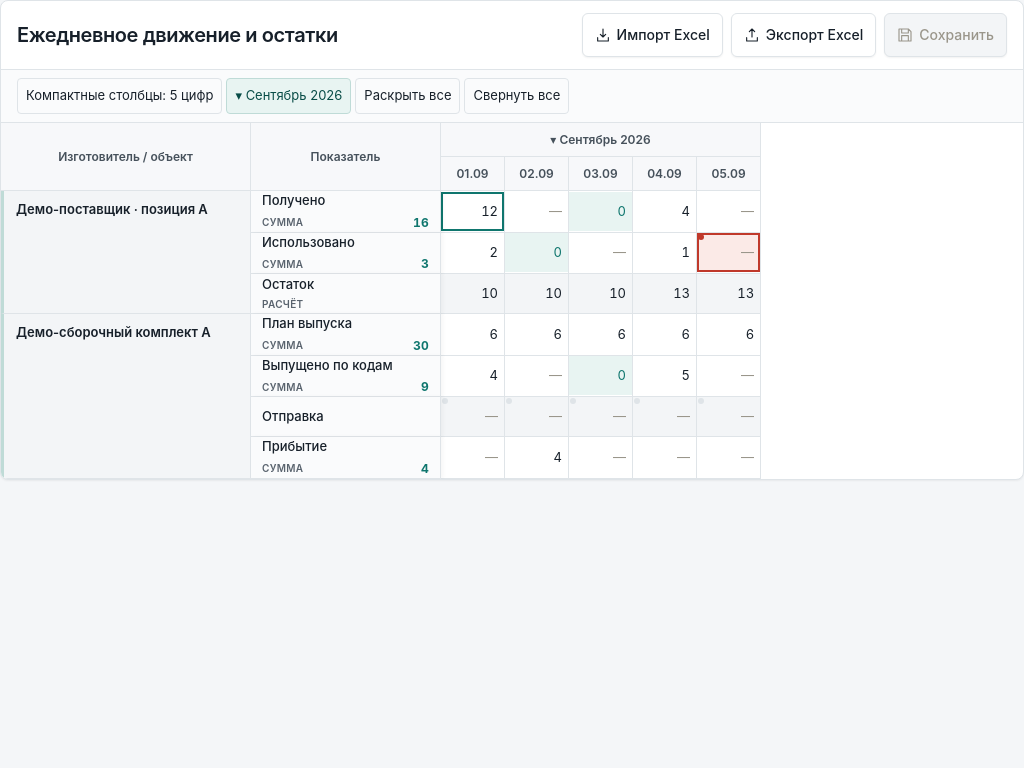
Test case: Excel actions › previews and confirms import, then performs export
Click the button "Импорт Excel" at {"x": 652, "y": 35}, box left=582, top=13, right=723, bottom=57
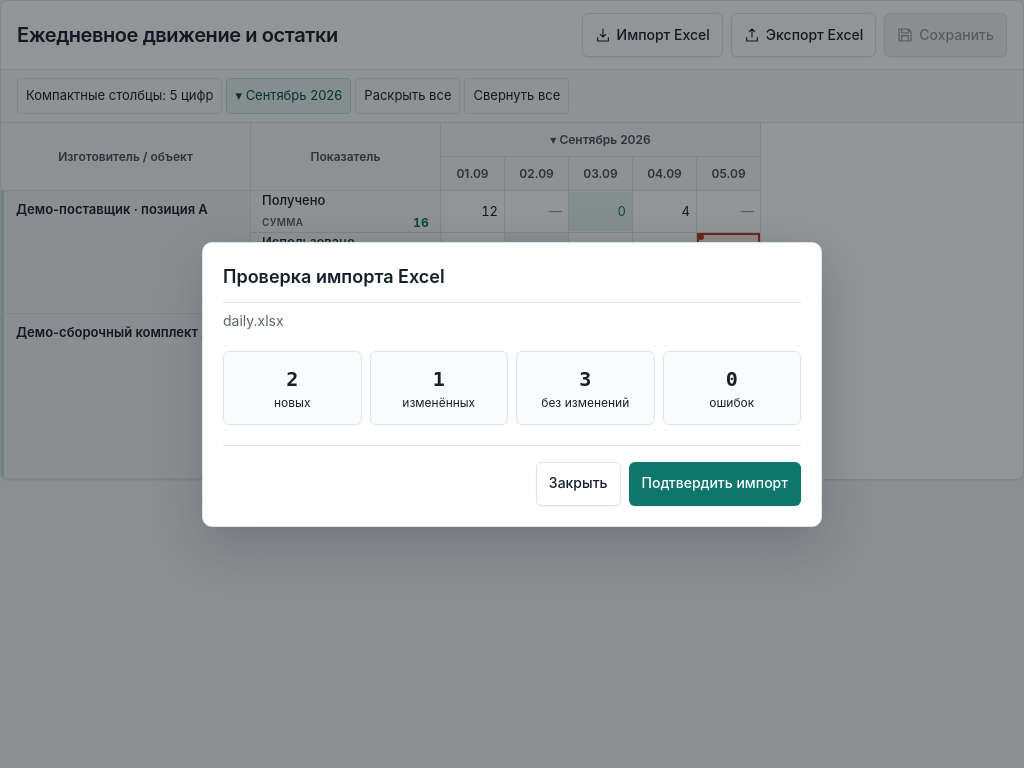
Now the dialog "Проверка импорта Excel" is shown, box left=202, top=242, right=822, bottom=526
Now the text "daily.xlsx" is shown, box left=223, top=312, right=284, bottom=328
Now the text "2" is shown, box left=286, top=366, right=298, bottom=390
Click the button "Подтвердить импорт" at {"x": 715, "y": 484}, box left=628, top=462, right=801, bottom=506
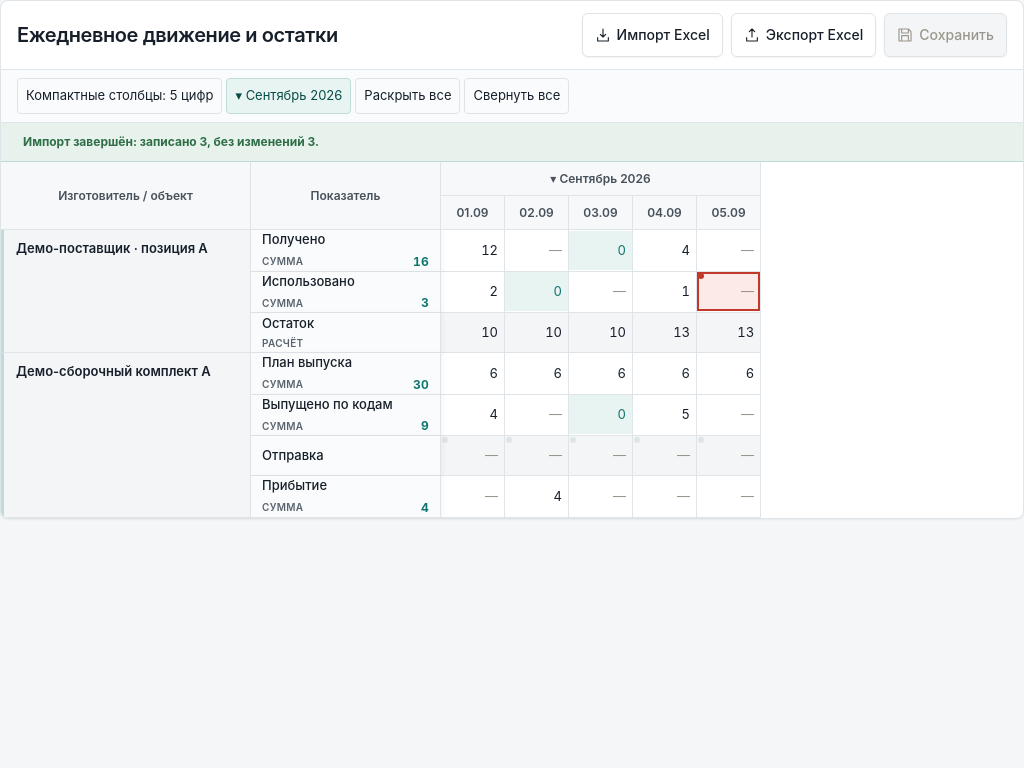
Now the text "Импорт завершён: записано 3, без изменений 3." is shown, box left=1, top=123, right=1023, bottom=162
Click the button "Экспорт Excel" at {"x": 804, "y": 35}, box left=731, top=13, right=876, bottom=57
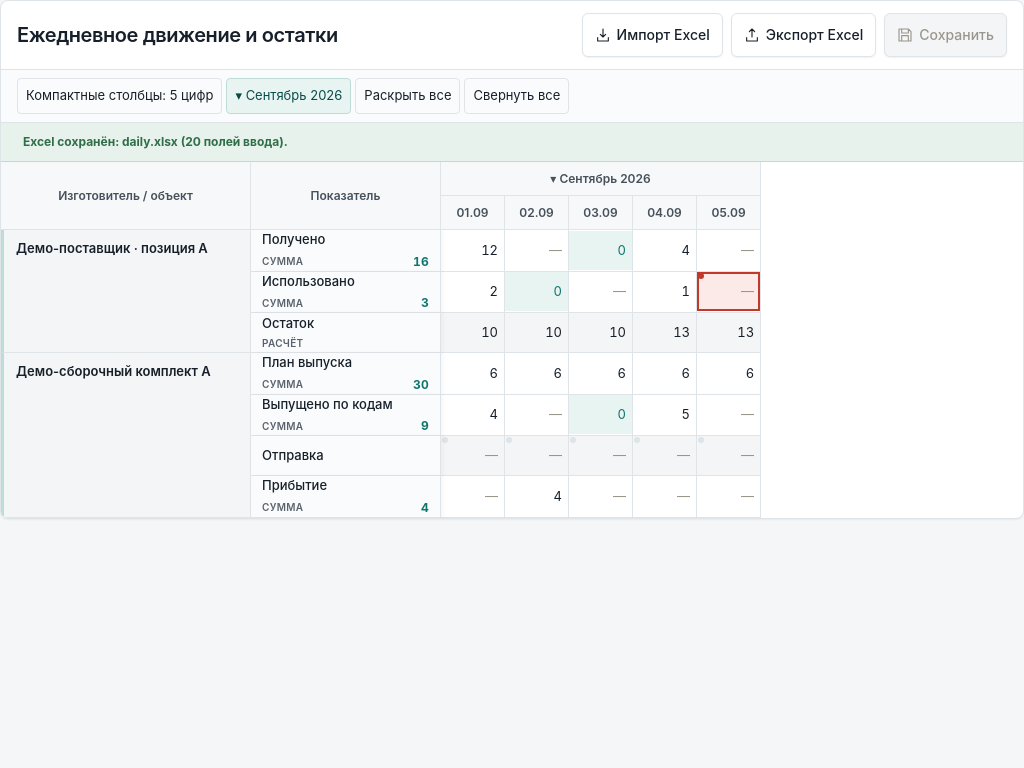
Now the text "Excel сохранён: daily.xlsx (20 полей ввода)." is shown, box left=1, top=123, right=1023, bottom=162
